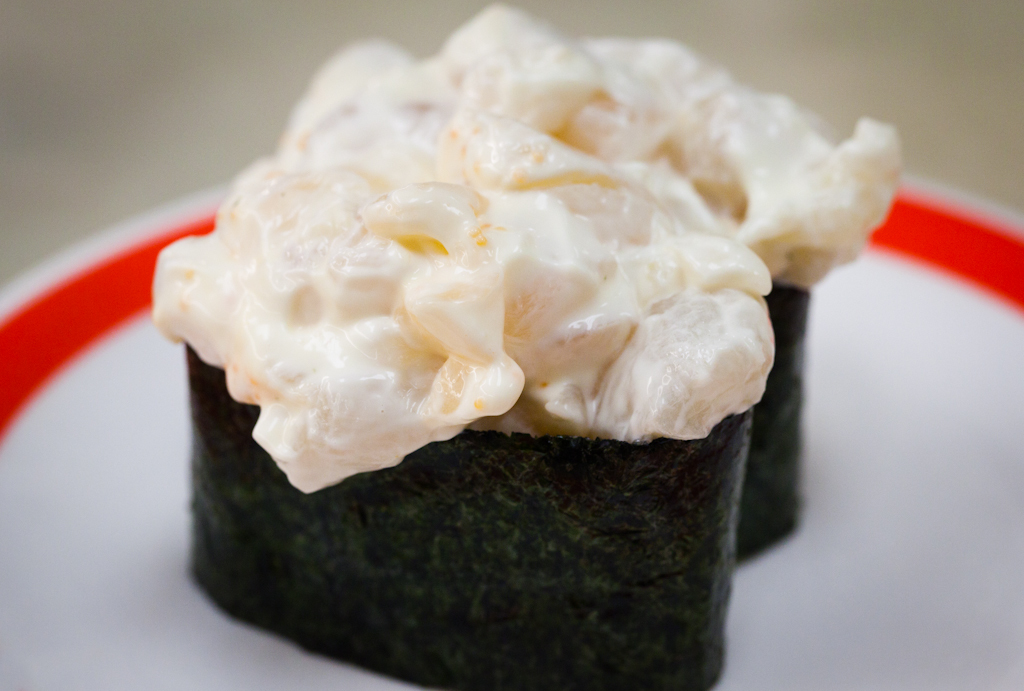sushi: (134, 9, 847, 653)
